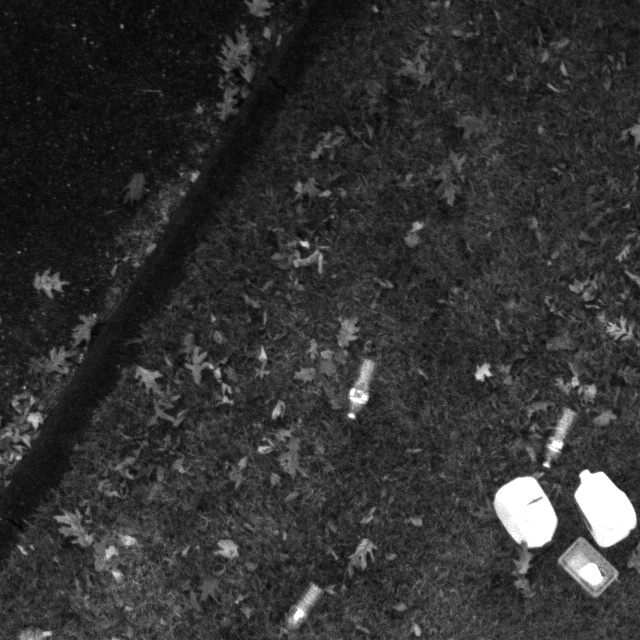bottle: (528, 404, 579, 480), (284, 572, 331, 640), (340, 356, 383, 425)
can: (488, 466, 567, 551), (566, 464, 640, 552)
container: (547, 531, 631, 602)
